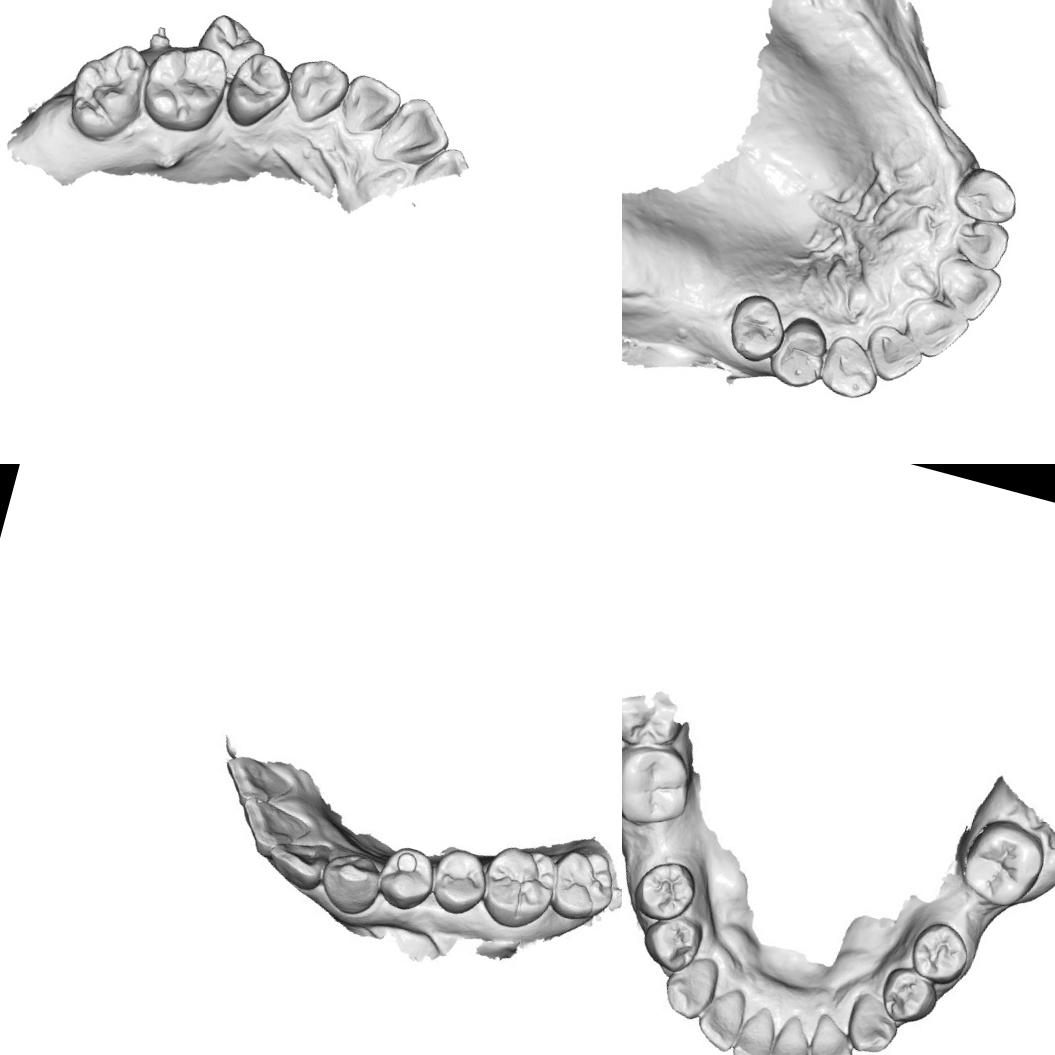canine: (280, 50, 352, 133), (814, 330, 888, 404), (948, 161, 1025, 230), (316, 846, 381, 916), (846, 990, 901, 1053), (662, 958, 716, 1022)
incisor: (370, 87, 460, 178), (926, 252, 1004, 326), (895, 293, 974, 366), (332, 68, 404, 146), (217, 744, 295, 810), (239, 793, 314, 860), (860, 320, 928, 388), (948, 212, 1014, 274), (692, 984, 750, 1052), (268, 832, 332, 888), (727, 1004, 781, 1055), (804, 1013, 861, 1055), (766, 1012, 819, 1055)
molar: (56, 29, 156, 152), (134, 32, 236, 142), (958, 813, 1046, 911), (474, 838, 562, 935), (622, 737, 697, 837), (545, 842, 622, 927)
premolar: (218, 45, 297, 135), (190, 7, 271, 84), (720, 287, 793, 368), (764, 310, 835, 393), (904, 914, 976, 988), (379, 842, 444, 914), (632, 858, 698, 922), (430, 846, 492, 913), (639, 912, 702, 974), (884, 964, 938, 1022)
